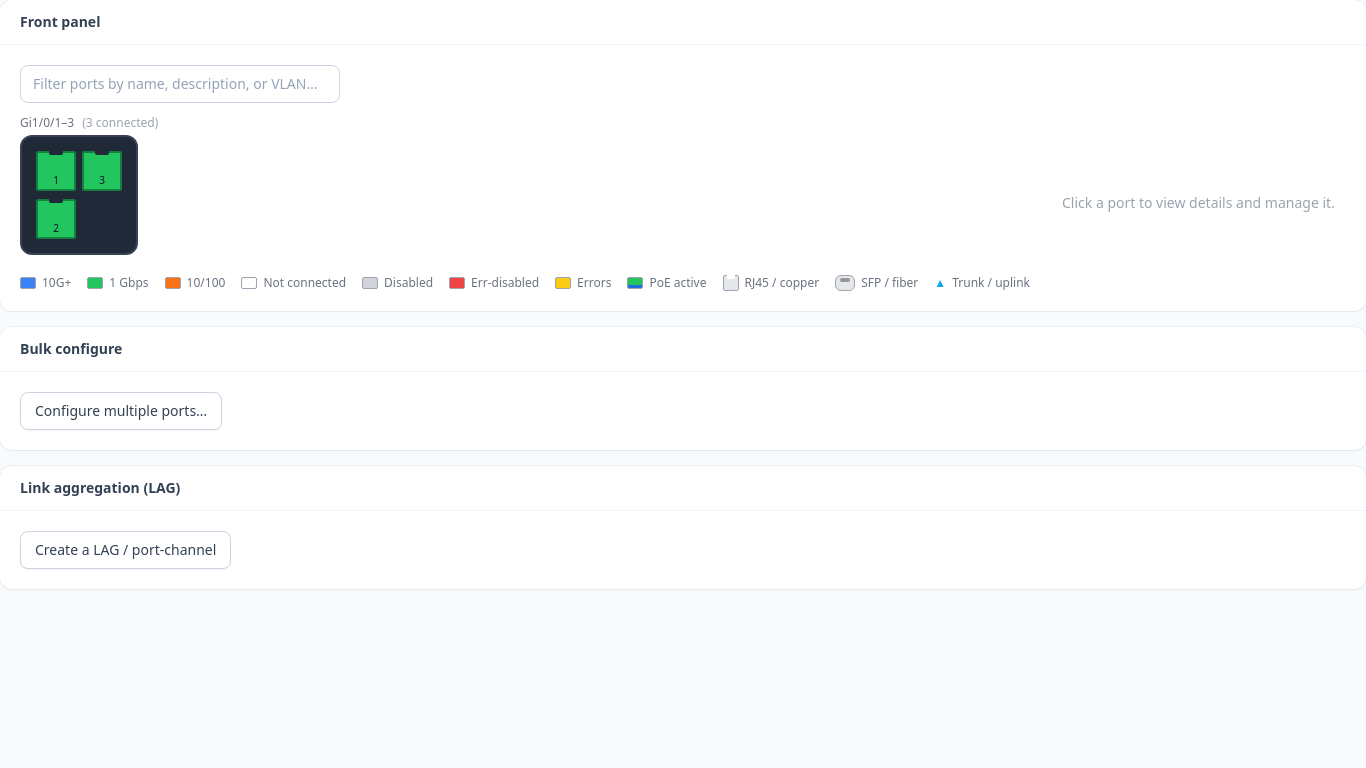
it: Bulk port configuration › continues past a failing port and reports the failure inline
This screenshot has width=1366, height=768.
Click the button "Configure multiple ports…". click: (121, 411)
box: [20,392,222,430]
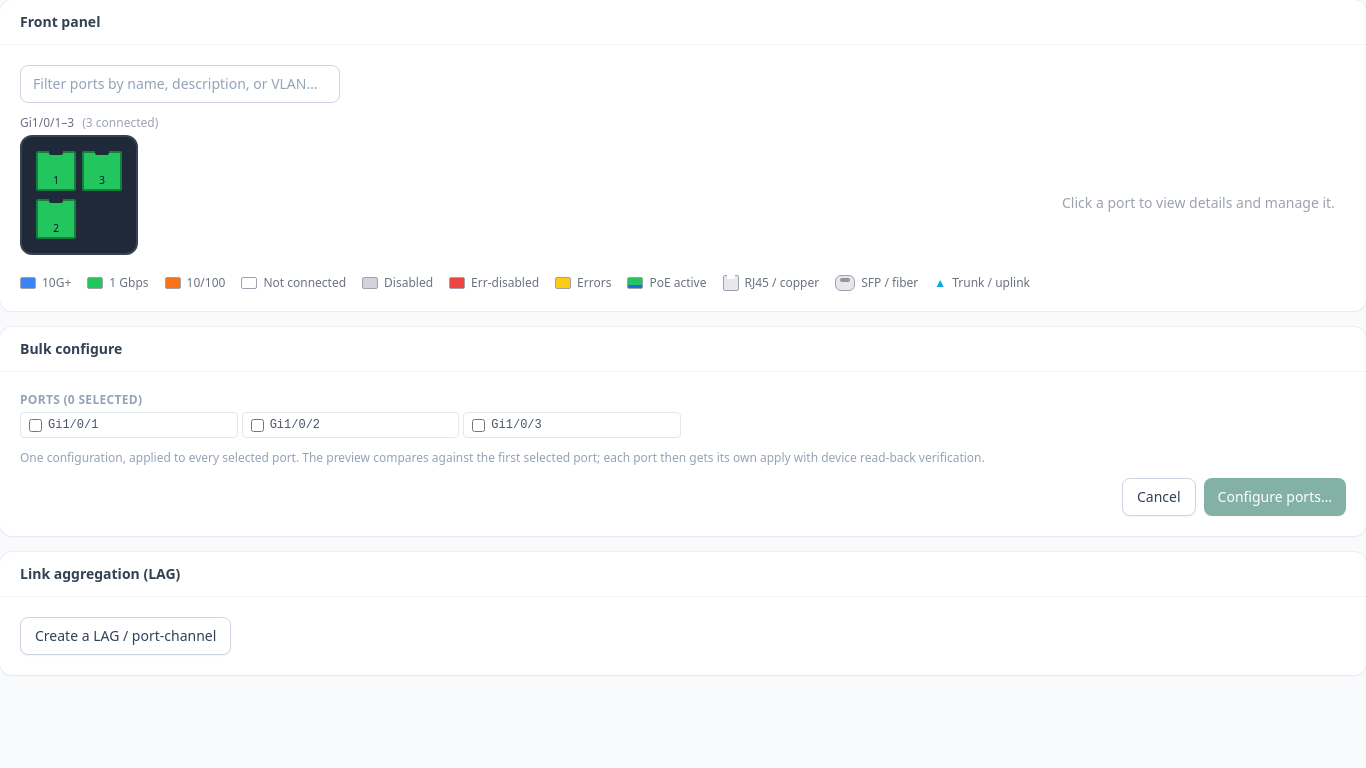
Click the checkbox labelled "Gi1/0/1". click: (36, 425)
box: [29,418,42,432]
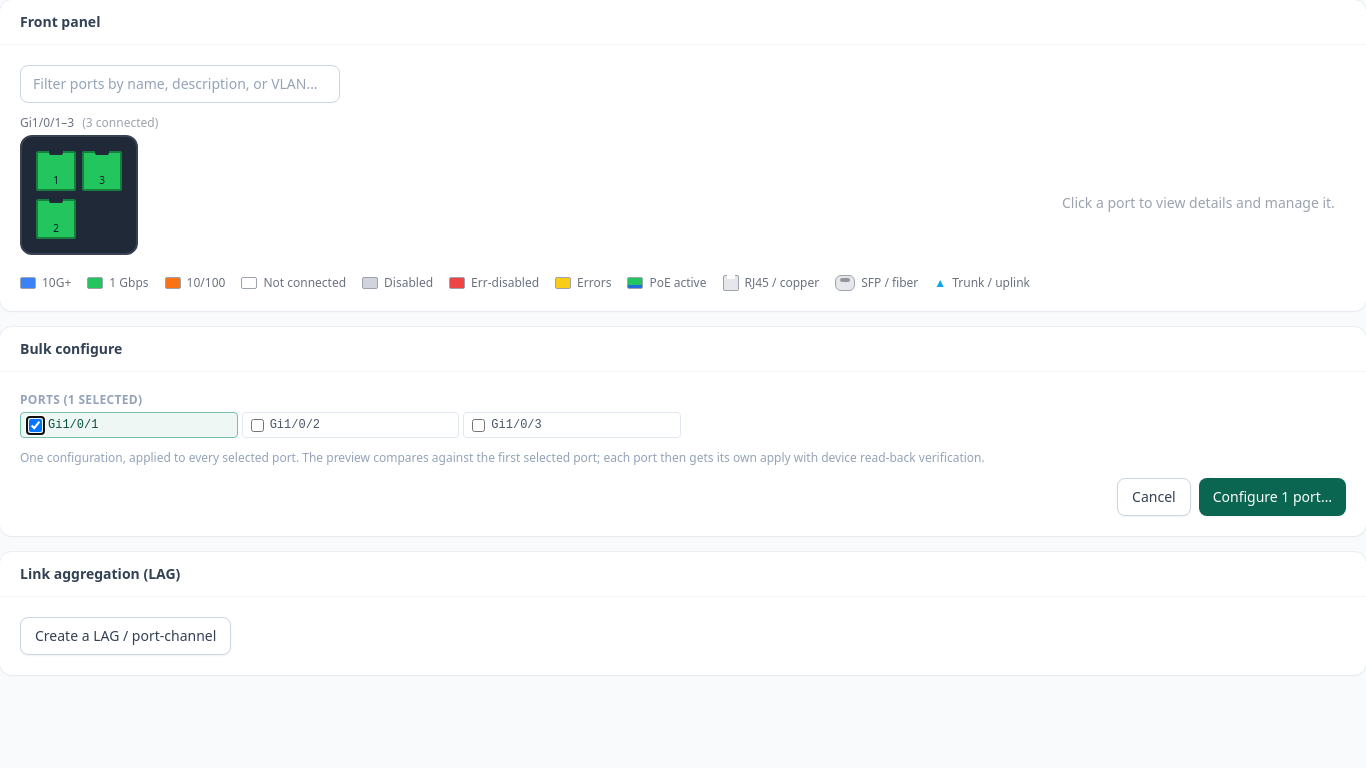
Click the checkbox labelled "Gi1/0/2". click: (257, 425)
box: [251,418,264,432]
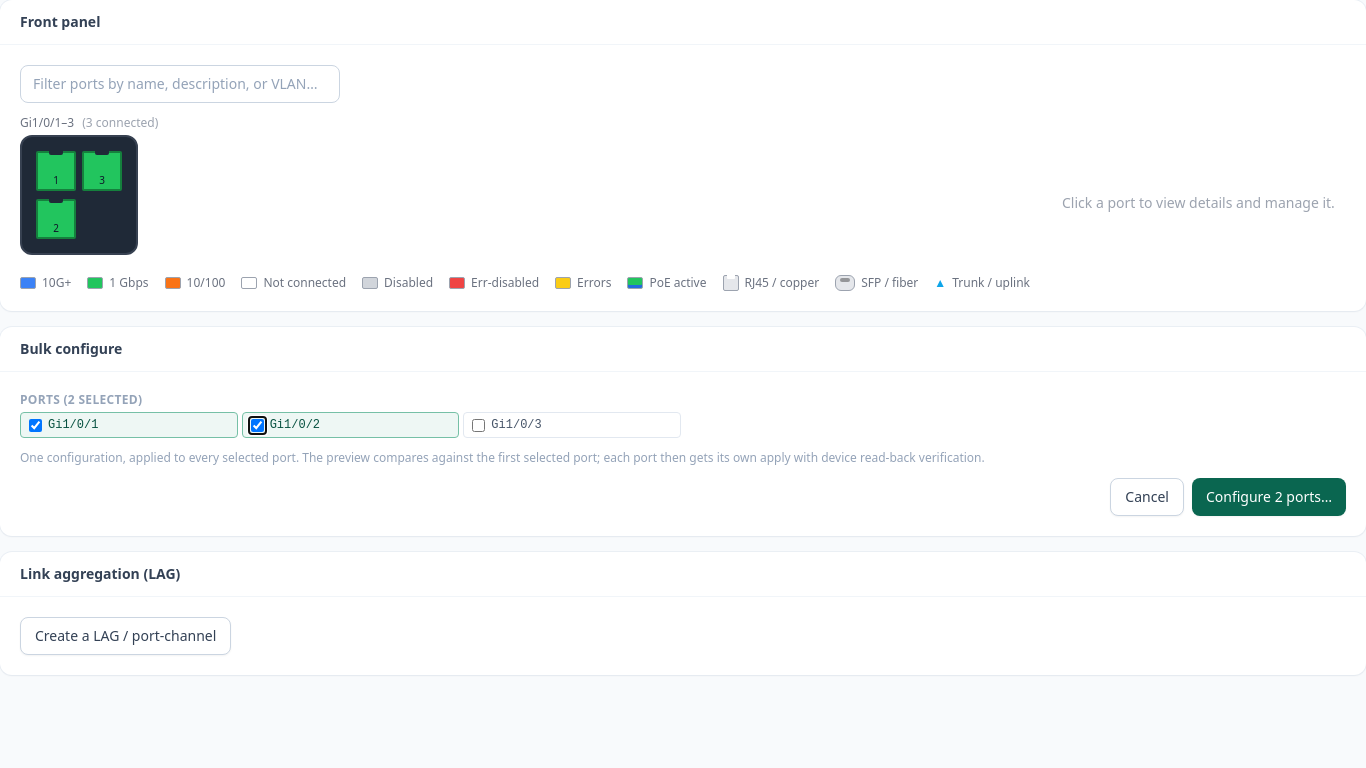
Click the button "Configure 2 ports…". click: (1269, 497)
box: [1192,478,1346,516]
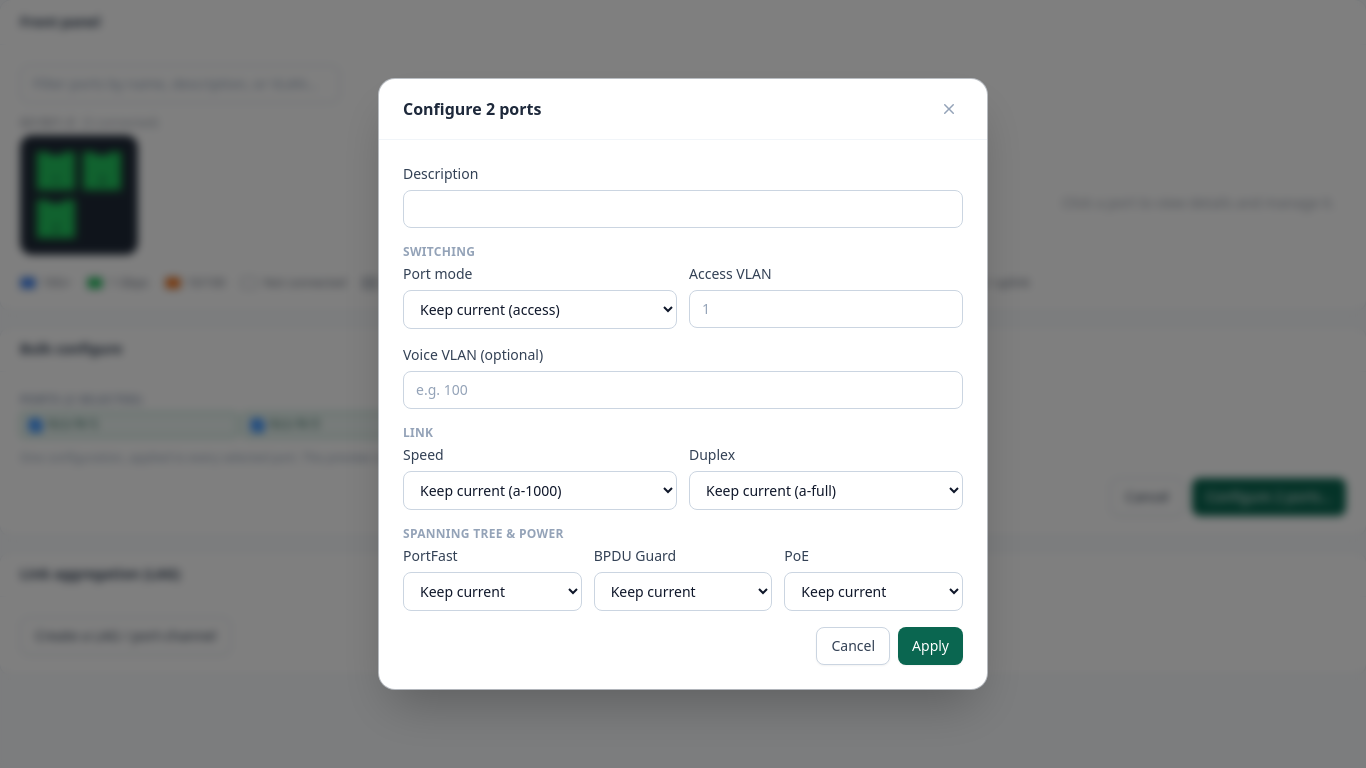
Type "20" into the field labelled "Access VLAN". click: (826, 309)
box: [689,290,963,328]
Click the button "Apply". click: (931, 646)
box: [898,627,963,665]
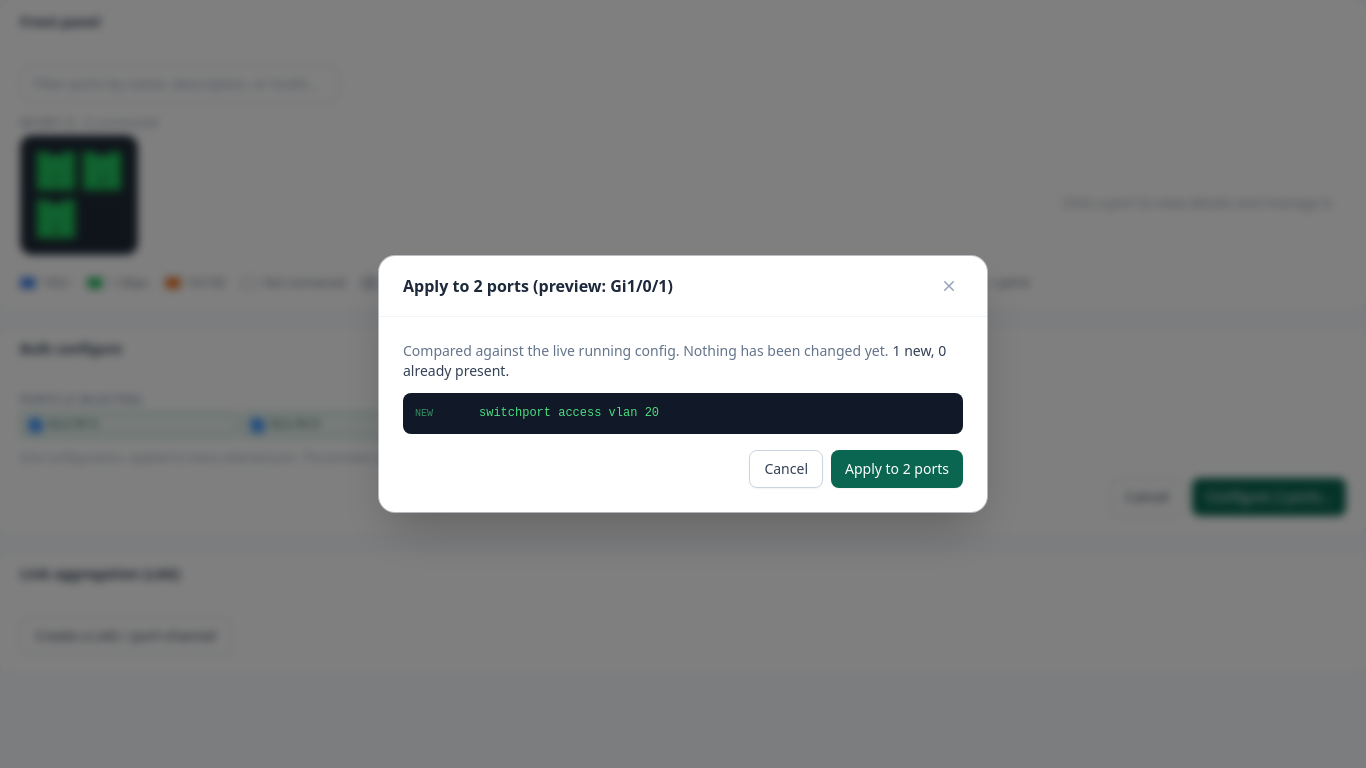
Click the button "Apply to 2 ports". click: (897, 469)
box: [831,450,963,488]
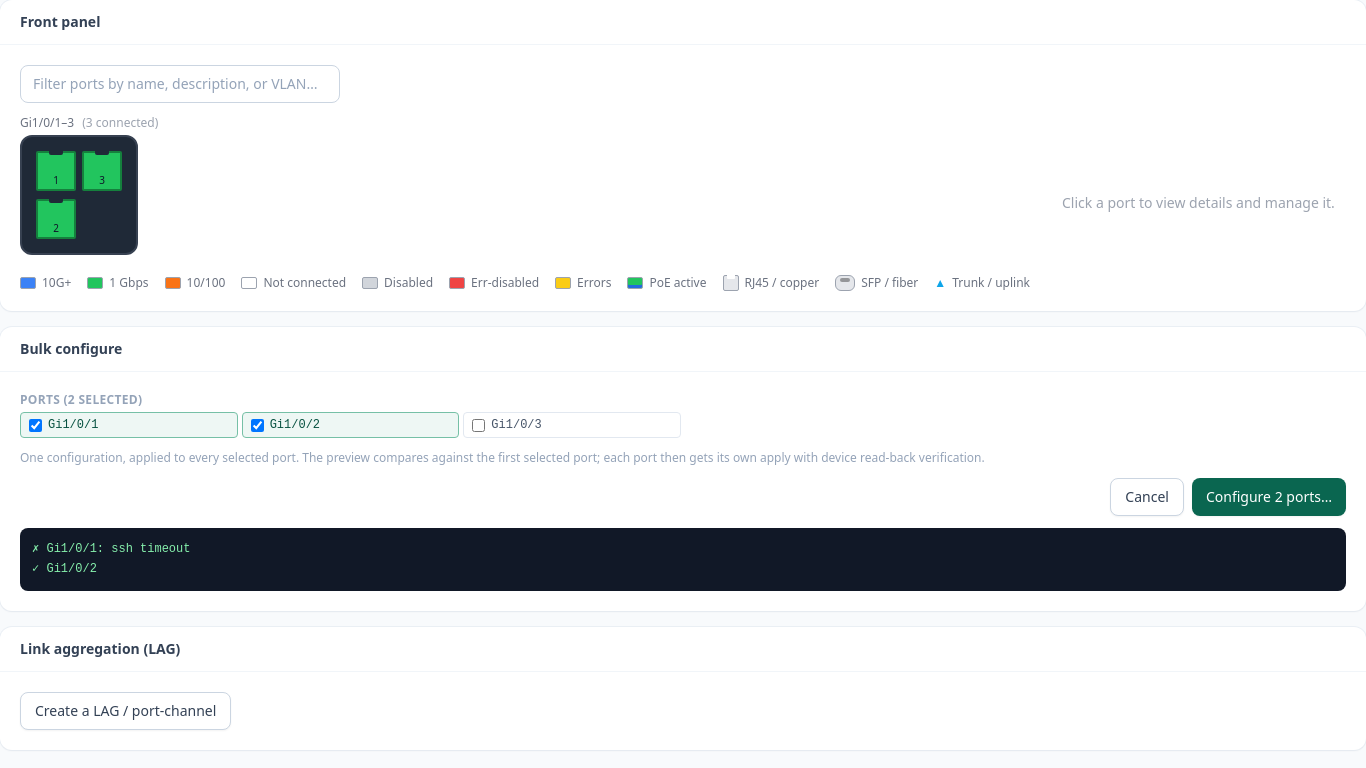
Check: the text "✗ Gi1/0/1: ssh timeout ✓ Gi1/0/2" is shown, box [20,528,1346,591]
